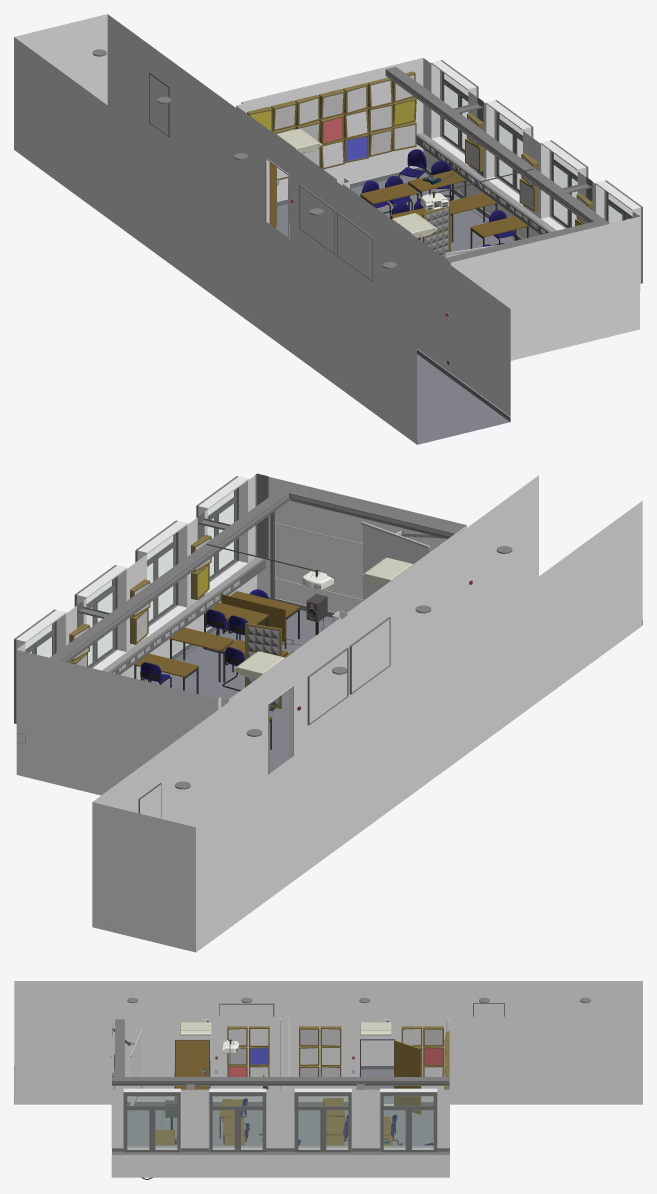
File: seminar-room-virtual-acoustics.glb
3 renders of one model, top to bottom at view 1: azimuth 30°, elevation 25°; view 2: azimuth 150°, elevation 25°; view 3: azimuth 270°, elevation 25°, orthographic. The views are drawn at different scales.
Parts seen in each view (by area): view 1: HallWalls, Room, WindowWall, CableRack.001, HallFloor, Room.001, MetalGurder, Cube.099, Cube.098, Cube.031, Cube.073, Window.002 (+21 smaller); view 2: HallWalls, Room, CableRack.001, WindowWall, Room.001, Cube.014, MetalGurder, Cube.099, Cube.098, Cube.087, Cube.031, Window.003 (+12 smaller); view 3: HallWalls, Room, WindowWall, Room.001, CableRack.001, WindowPanes.002, WindowPanes.001, WindowPanes.003, WindowPanes.004, MetalGurder, Window.001, Window.002 (+24 smaller).
Boxes of the visible parts, x1,y1,x2,y2 form: HallWalls: (14, 14, 510, 439); Room: (14, 58, 639, 444); WindowWall: (423, 58, 640, 291); CableRack.001: (385, 67, 609, 263); HallFloor: (417, 354, 509, 444); Room.001: (276, 172, 514, 251); MetalGurder: (416, 133, 556, 234); Cube.099: (337, 212, 374, 282); Cube.098: (299, 184, 336, 254); Cube.031: (422, 204, 450, 257); Cube.073: (149, 72, 169, 137); Window.002: (494, 100, 533, 194); HallWalls: (92, 475, 642, 946); Room: (16, 477, 642, 952); CableRack.001: (50, 484, 464, 662); WindowWall: (16, 475, 255, 723); Room.001: (146, 610, 332, 773); Cube.014: (274, 522, 362, 599); MetalGurder: (17, 557, 265, 743); Cube.099: (349, 617, 390, 694); Cube.098: (307, 647, 348, 725); Cube.087: (363, 525, 429, 600); Cube.031: (245, 623, 281, 708); Window.003: (135, 520, 178, 626); HallWalls: (14, 981, 642, 1100); Room: (14, 1017, 642, 1177); WindowWall: (111, 1088, 449, 1151); Room.001: (127, 1106, 433, 1145); CableRack.001: (112, 1019, 449, 1089); WindowPanes.002: (298, 1096, 347, 1149); WindowPanes.001: (384, 1096, 433, 1149); WindowPanes.003: (213, 1096, 262, 1149); WindowPanes.004: (127, 1096, 176, 1149); MetalGurder: (112, 1145, 449, 1154); Window.001: (380, 1092, 437, 1152); Window.002: (294, 1092, 351, 1152).
Size of the model in its own units: 7.79 by 3.09 by 18.32.
